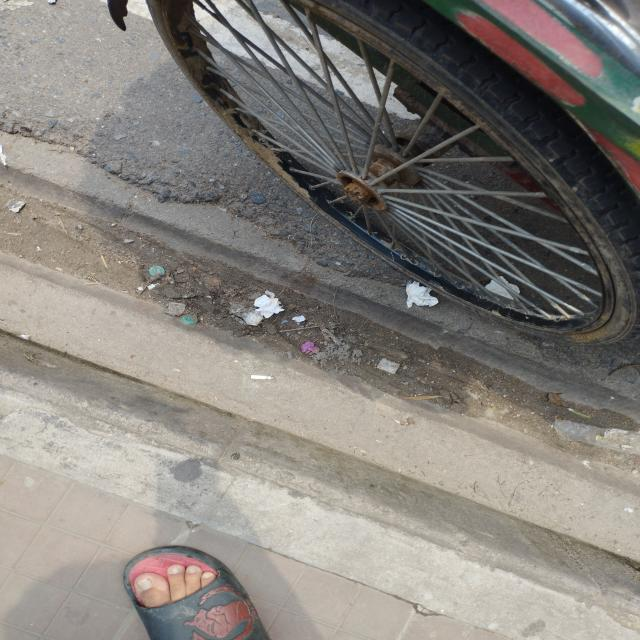paper: (404, 282, 439, 307), (253, 291, 284, 318)
